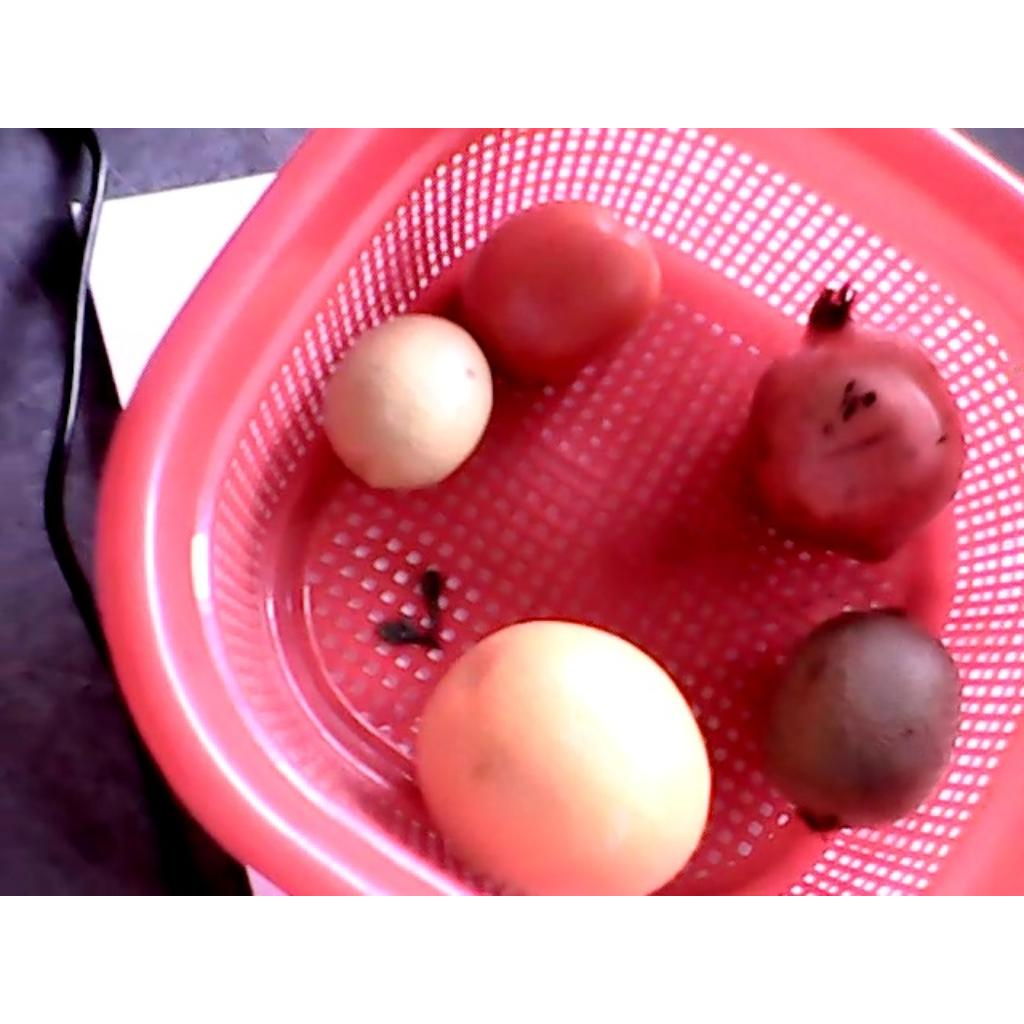kiwi: (757, 602, 956, 833)
orange: (415, 622, 710, 892), (321, 314, 493, 485)
pomegranate: (747, 278, 961, 563)
tomato: (464, 201, 657, 387)
